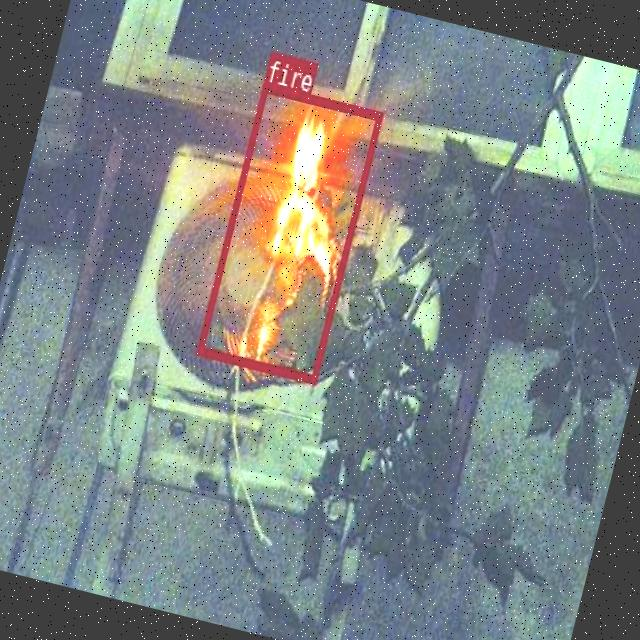fire: (196, 81, 382, 381)
